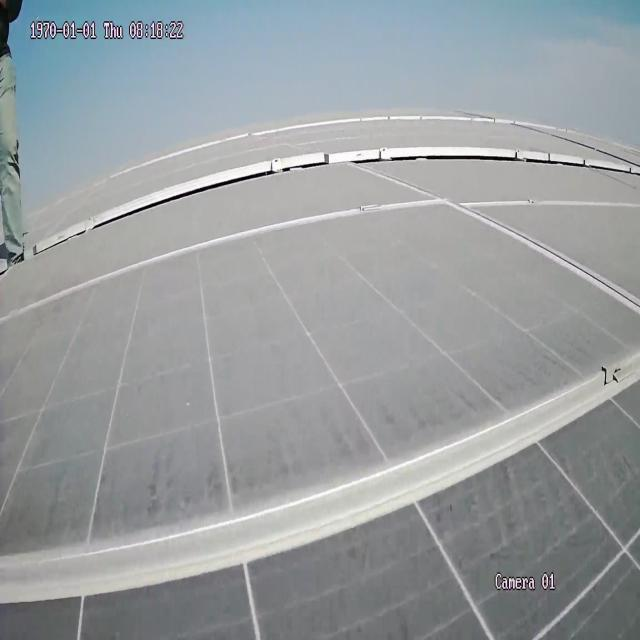interior panel: (1, 346, 638, 606), (0, 163, 639, 330)
